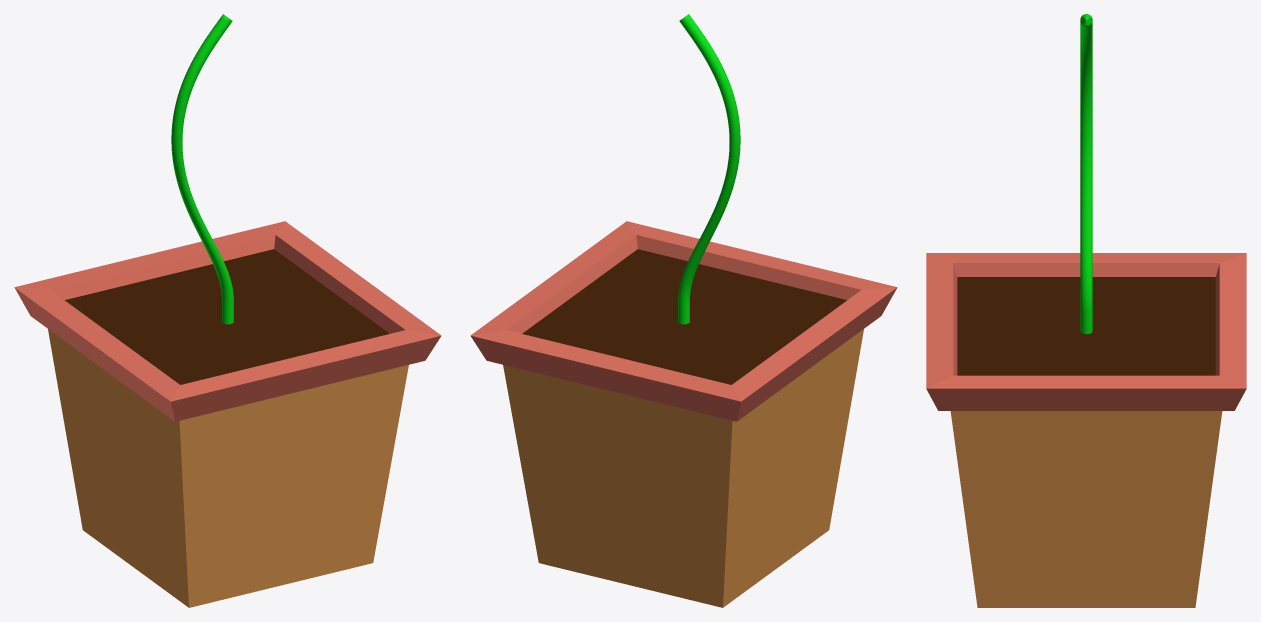
The model's file is square_pot.glb.
3 renders of one model, left to right at view 1: azimuth 30°, elevation 25°; view 2: azimuth 150°, elevation 25°; view 3: azimuth 270°, elevation 25°, orthographic. The views are drawn at different scales.
Parts seen in each view (by area): view 1: Cylinder; view 2: Cylinder; view 3: Cylinder.
Part boxes in pixels (x1,y1,x2,y2): Cylinder: [14, 14, 441, 607]; Cylinder: [470, 14, 897, 607]; Cylinder: [926, 14, 1246, 607].
Size of the model in its own units: 1.89 by 3.56 by 1.89.
